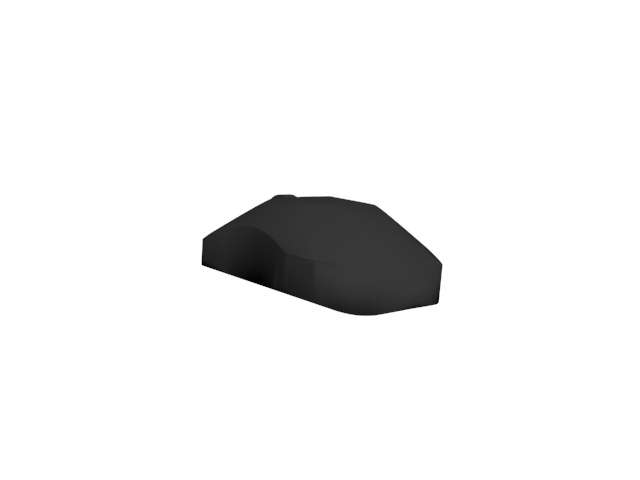mouse: (201, 193, 448, 320)
